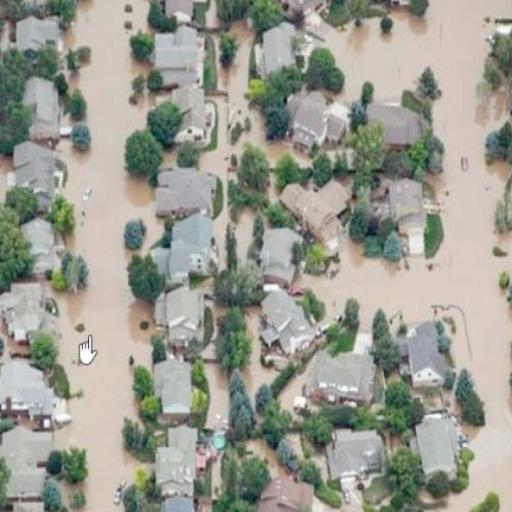flood: (301, 0, 512, 512), (42, 0, 170, 512), (200, 21, 308, 186), (199, 19, 265, 185), (241, 306, 275, 397), (212, 202, 255, 269), (203, 349, 228, 427), (246, 440, 292, 480), (205, 0, 220, 28), (0, 158, 11, 196)
house: (309, 348, 378, 411), (260, 288, 316, 364), (0, 359, 63, 418), (288, 182, 344, 248), (2, 431, 52, 502), (156, 288, 210, 350), (153, 166, 215, 220), (412, 414, 456, 490), (170, 209, 214, 283), (8, 140, 58, 203), (288, 91, 341, 148), (156, 424, 199, 494), (327, 425, 383, 477), (372, 98, 422, 154), (153, 25, 199, 83), (407, 321, 446, 389), (154, 359, 194, 425), (22, 78, 62, 142), (258, 226, 302, 284), (386, 174, 424, 234), (13, 14, 61, 60), (171, 86, 208, 142), (261, 25, 297, 82), (26, 219, 60, 269), (156, 0, 214, 20), (278, 0, 332, 21), (152, 494, 198, 512), (368, 0, 414, 11), (0, 502, 46, 512)
